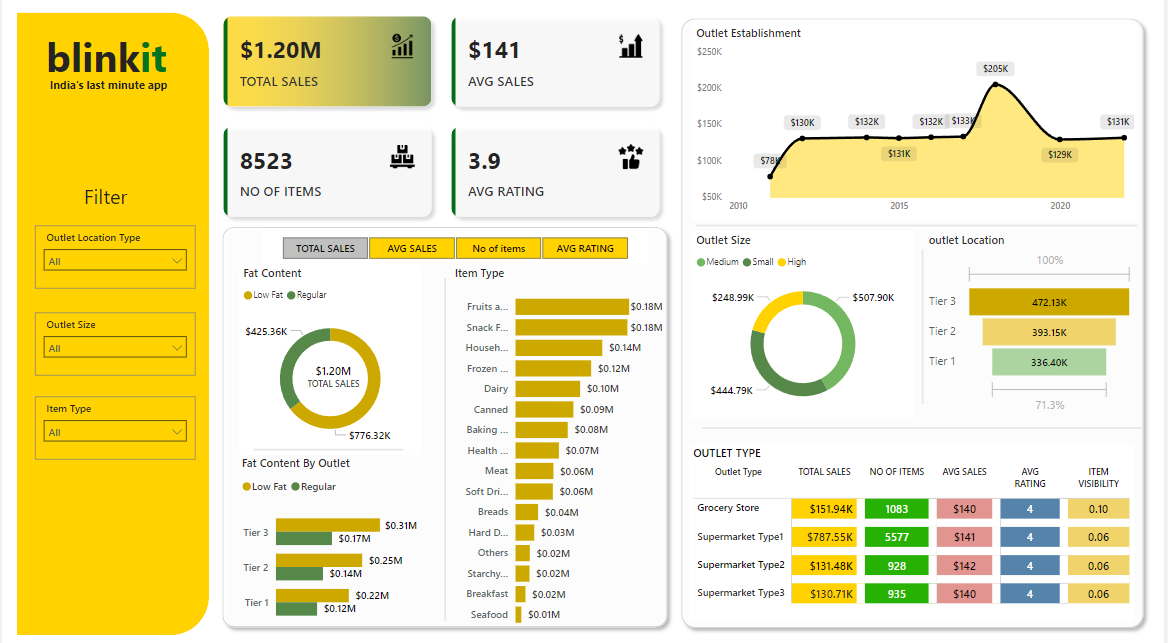

This screenshot's page, from the dashboard's own definition file:
{"tool":"powerbi","page":{"name":"Page 1","canvas":[1400,800],"ordinal":0},"visuals":[{"type":"shape","box":[18.6,26.9,231.5,750.3],"z":0},{"type":"textbox","box":[18.6,41.3,215,90.9],"z":1000},{"type":"textbox","box":[51.7,99.2,163.3,33.1],"z":2000},{"type":"cardVisual","fields":{"Data":["BlinkIT Grocery Data.TOTAL SALES","BlinkIT Grocery Data.AVG SALES","BlinkIT Grocery Data.No of items","BlinkIT Grocery Data.AVG RATING"]},"box":[250.1,14.5,560.1,277],"z":3000},{"type":"shape","box":[256.3,277,553.9,500.2],"z":4000},{"type":"donutChart","title":"Fat Content","fields":{"Y":["BlinkIT Grocery Data.TOTAL SALES"],"Category":["BlinkIT Grocery Data.Item Fat Content"]},"box":[285.2,330.7,219.1,229.4],"z":5000},{"type":"slicer","fields":{"Values":["Metrics.Metrics"]},"box":[312.1,291.4,465.1,39.3],"z":6000},{"type":"cardVisual","fields":{"Data":["BlinkIT Grocery Data.TOTAL SALES"]},"box":[349.3,432,101.3,66.1],"z":7000},{"type":"clusteredBarChart","title":"Fat Content By Outlet","fields":{"Y":["BlinkIT Grocery Data.TOTAL SALES"],"Category":["BlinkIT Grocery Data.Outlet Location Type"],"Series":["BlinkIT Grocery Data.Item Fat Content"]},"box":[283.2,560.1,221.2,217],"z":8000},{"type":"shape","box":[303.8,547.7,179.8,12.4],"z":9000},{"type":"shape","box":[527.1,347.2,12.4,413.4],"z":10000},{"type":"barChart","title":"Item Type","fields":{"Y":["BlinkIT Grocery Data.TOTAL SALES"],"Category":["BlinkIT Grocery Data.Item Type"]},"box":[539.5,330.7,260.4,446.5],"z":11000},{"type":"shape","box":[810.2,24.8,574.6,752.4],"z":12000},{"type":"lineChart","title":"Outlet Establishment","fields":{"Category":["BlinkIT Grocery Data.Outlet Establishment Year"],"Y":["BlinkIT Grocery Data.TOTAL SALES"]},"box":[830.9,41.3,537.4,235.6],"z":13000},{"type":"donutChart","title":"Outlet Size","fields":{"Y":["BlinkIT Grocery Data.TOTAL SALES"],"Category":["BlinkIT Grocery Data.Outlet Size"]},"box":[830.9,291.4,266.6,225.3],"z":14000},{"type":"shape","box":[837.1,277,531.2,14.5],"z":15000},{"type":"shape","box":[1105.8,312.1,6.2,186],"z":16000},{"type":"funnel","title":"outlet Location ","fields":{"Y":["Sum(BlinkIT Grocery Data.Sales)"],"Category":["BlinkIT Grocery Data.Outlet Location Type"]},"box":[1112,291.4,256.3,223.2],"z":17000},{"type":"shape","box":[843.3,520.9,531.2,14.5],"z":17001},{"type":"pivotTable","title":"OUTLET TYPE","fields":{"Rows":["BlinkIT Grocery Data.Outlet Type"],"Values":["BlinkIT Grocery Data.TOTAL SALES","BlinkIT Grocery Data.NO OF ITEMS","BlinkIT Grocery Data.AVG SALES","BlinkIT Grocery Data.AVG RATING","Avg(BlinkIT Grocery Data.Item Visibility)"]},"box":[827.7,547.6,536.8,213.3],"z":17002},{"type":"slicer","fields":{"Values":["BlinkIT Grocery Data.Outlet Location Type"]},"box":[39.8,283.7,193.4,75.9],"z":17003},{"type":"slicer","fields":{"Values":["BlinkIT Grocery Data.Outlet Size"]},"box":[39.8,388.6,193.4,75.9],"z":17004},{"type":"slicer","fields":{"Values":["BlinkIT Grocery Data.Item Type"]},"box":[39.8,489.8,193.4,75.9],"z":17005},{"type":"textbox","box":[81.3,225.9,86.7,50.6],"z":17006}]}

Visuals, with their boxes on the page's 1400x800 design canvas (x1, y1, x2, y2). These are canvas units, not pixel positions in the 1168x643 screenshot, which may show the page scaled, cropped or inside an application window:
shape: 19,27,250,777
textbox: 19,41,234,132
textbox: 52,99,215,132
cardVisual - BlinkIT Grocery Data.TOTAL SALES x BlinkIT Grocery Data.AVG SALES: 250,14,810,292
shape: 256,277,810,777
"Fat Content" donutChart: 285,331,504,560
slicer - Metrics.Metrics: 312,291,777,331
cardVisual - BlinkIT Grocery Data.TOTAL SALES: 349,432,451,498
"Fat Content By Outlet" clusteredBarChart: 283,560,504,777
shape: 304,548,484,560
shape: 527,347,540,761
"Item Type" barChart: 540,331,800,777
shape: 810,25,1385,777
"Outlet Establishment" lineChart: 831,41,1368,277
"Outlet Size" donutChart: 831,291,1098,517
shape: 837,277,1368,292
shape: 1106,312,1112,498
"outlet Location " funnel: 1112,291,1368,515
shape: 843,521,1374,535
"OUTLET TYPE" pivotTable: 828,548,1364,761
slicer - BlinkIT Grocery Data.Outlet Location Type: 40,284,233,360
slicer - BlinkIT Grocery Data.Outlet Size: 40,389,233,464
slicer - BlinkIT Grocery Data.Item Type: 40,490,233,566
textbox: 81,226,168,276
